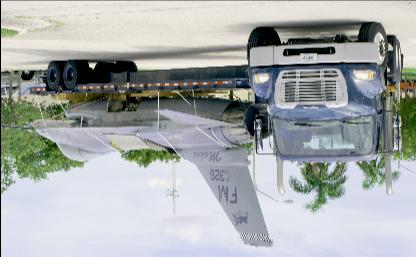F14: (1, 94, 273, 249)
